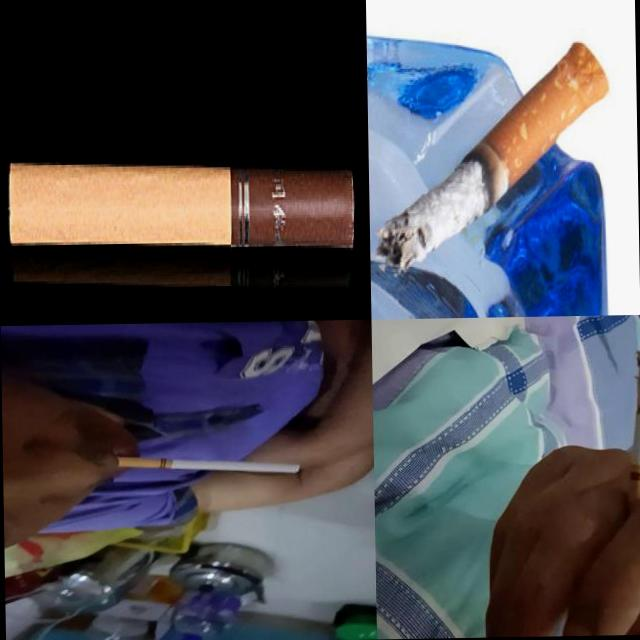cigarette: (372, 38, 614, 271), (8, 153, 355, 254), (116, 453, 302, 478), (621, 341, 640, 554)
